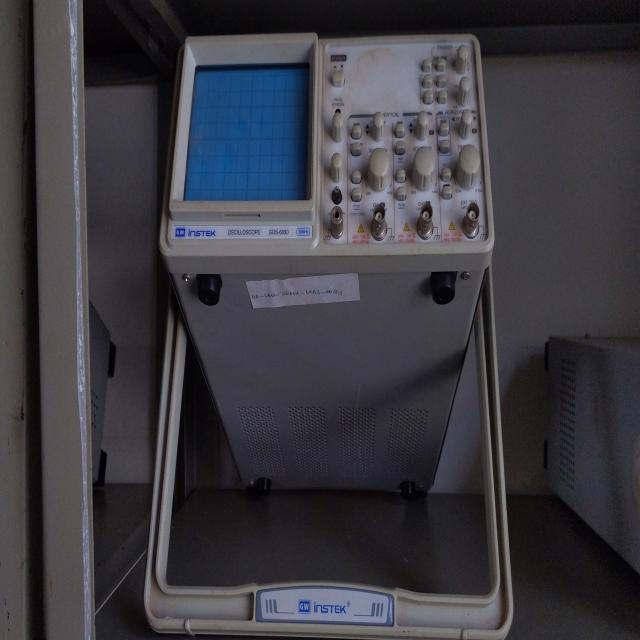Cathode Ray Oscilloscope: (143, 24, 513, 640)
